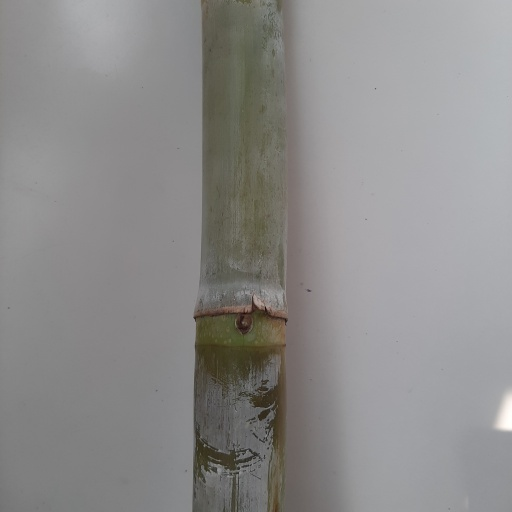Bud: (235, 315, 253, 335)
